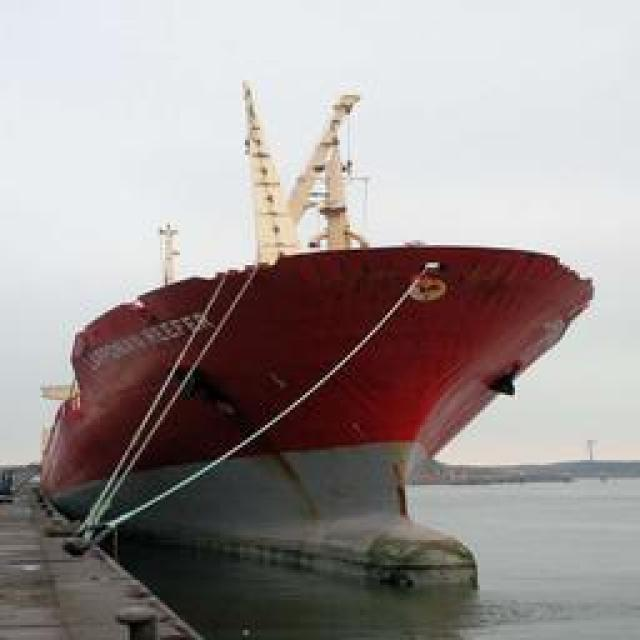ship2: (40, 80, 595, 609)
